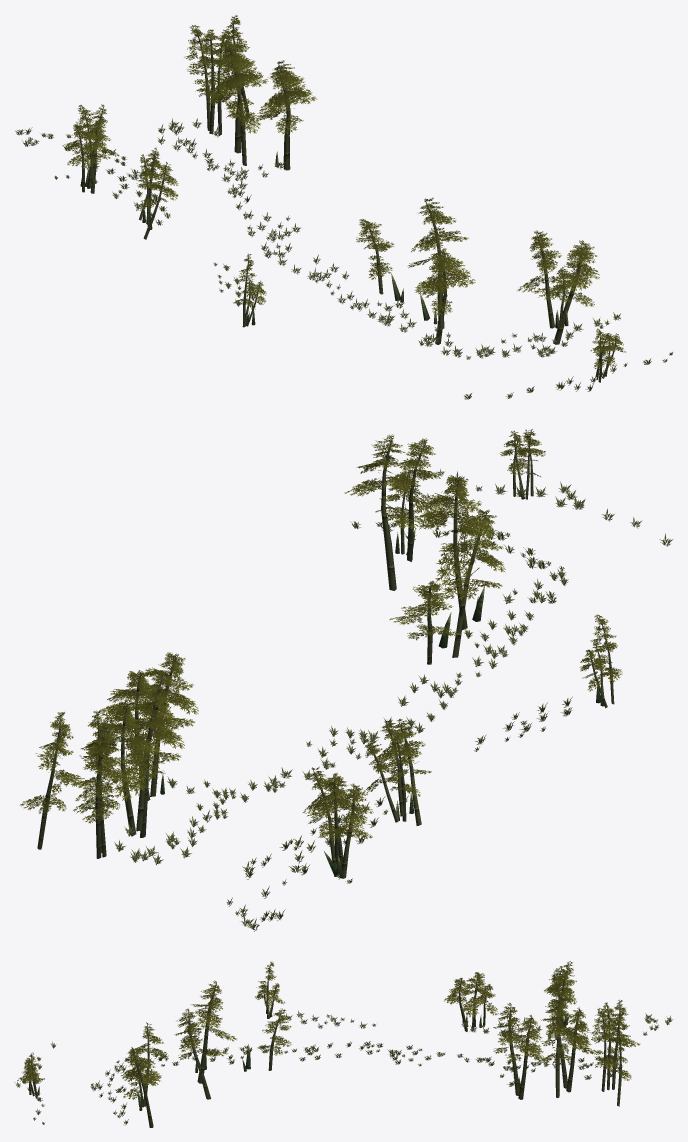
File: Area_13_22.fbx
3 renders of one model, top to bottom at view 1: azimuth 30°, elevation 25°; view 2: azimuth 150°, elevation 25°; view 3: azimuth 270°, elevation 25°, orthographic. The views are drawn at different scales.
Visible parts, largest first — view 1: Area_13_22; view 2: Area_13_22; view 3: Area_13_22.
Boxes of the visible parts, x1=… form: Area_13_22: x1=15, y1=15, x2=672, y2=399; Area_13_22: x1=19, y1=429, x2=673, y2=931; Area_13_22: x1=15, y1=961, x2=673, y2=1127.
Size of the model in its own units: 3568 by 1690 by 8450.
